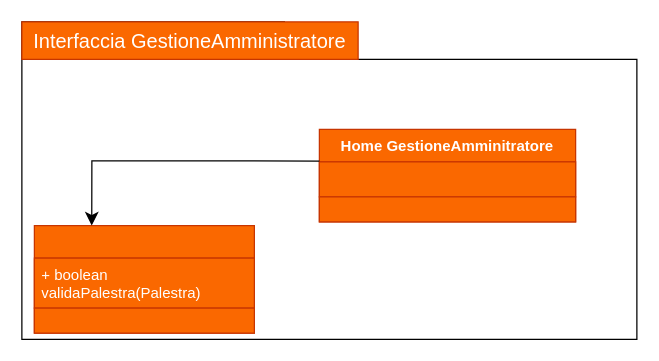
The diagram is 659 pixels wide and 361 high, and some of its shapes have lost their labels. The box of each missing label's shape, as (x1, y1, x2, y2) in pixels:
+ List <Palestra> mostraPalestre(): (318, 161, 576, 197)
View ValidazionePalestra: (33, 224, 254, 333)
